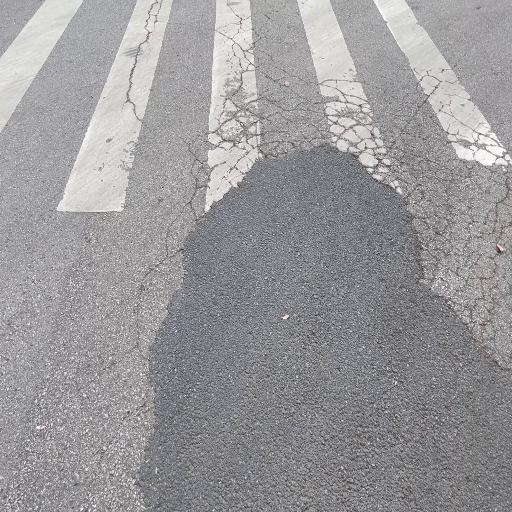Sambungan: (135, 145, 512, 512)
